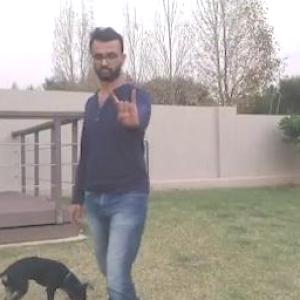takeoff-hand: (106, 84, 142, 129)
